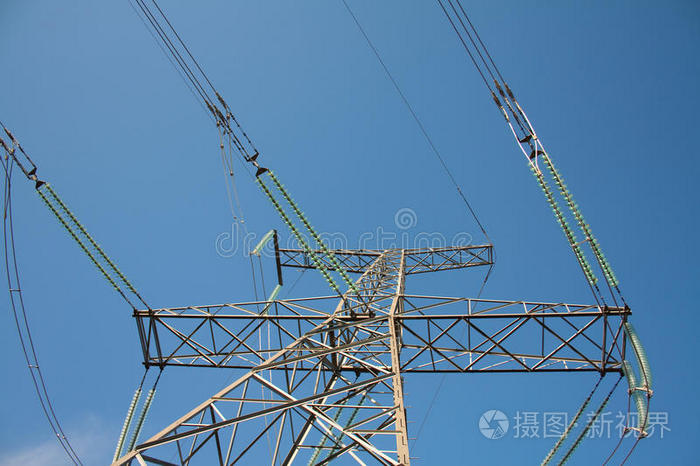insulator: (257, 172, 359, 297), (527, 152, 620, 288), (35, 181, 139, 295), (619, 323, 657, 438), (543, 398, 603, 466), (116, 388, 157, 460)
